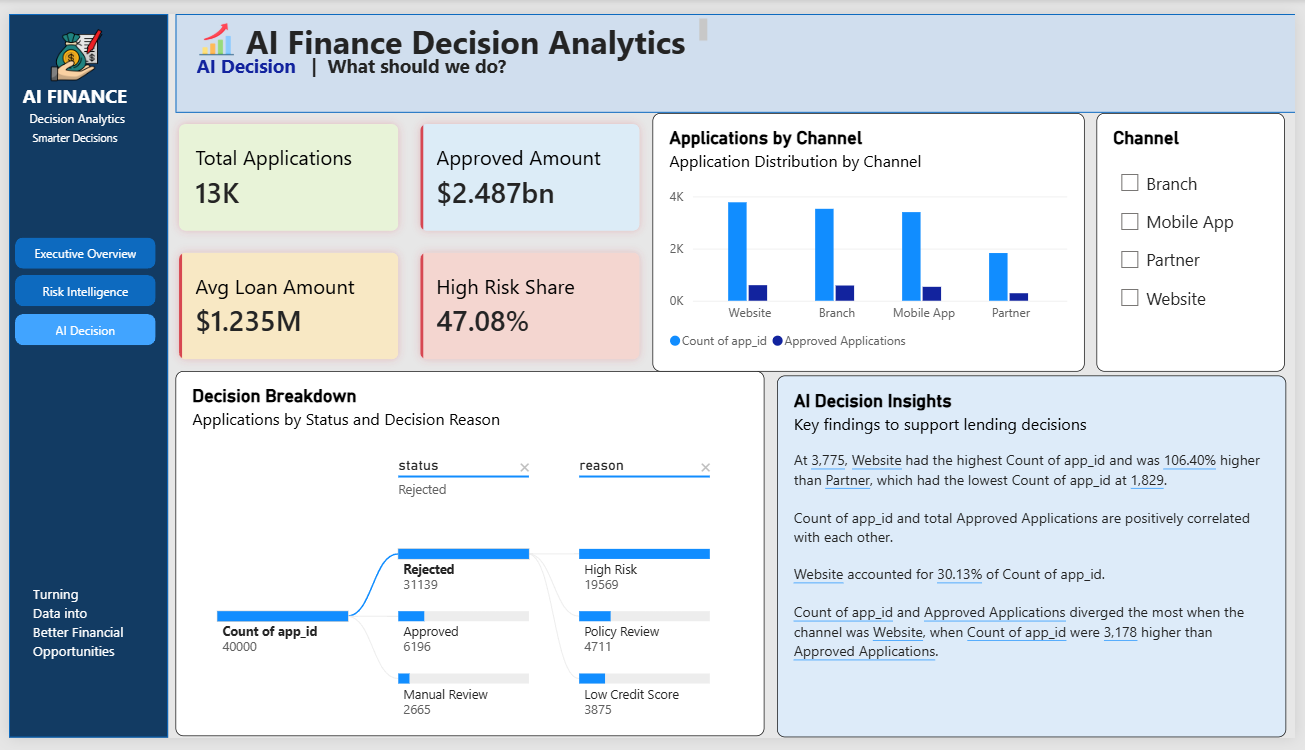

The page's visual inventory and layout, read from the dashboard file:
{"tool":"powerbi","page":{"name":"AI Decision","canvas":[1280,720],"ordinal":2},"visuals":[{"type":"shape","box":[0,0,158.3,720],"z":0},{"type":"shape","box":[165,0,1115,98.3],"z":1000},{"type":"cardVisual","fields":{"Data":["loan.Total Applications","decision.Approved Amount","loan.Avg Loan Amount","risk.High Risk Share"]},"box":[158.7,98.4,481,257.1],"z":2000},{"type":"textbox","box":[13.3,68.1,124.1,68.5],"z":3000},{"type":"textbox","box":[23.3,566.7,120,110],"z":4000},{"type":"image","box":[23.2,14.6,86.3,52.2],"z":5000},{"type":"actionButton","title":"Executive Overview","box":[5.7,298.6,140,31],"z":6000},{"type":"actionButton","title":"Executive Overview","box":[5.7,260,140,31],"z":7000},{"type":"textbox","box":[226.6,3.9,468.2,41.8],"z":8000,"group":"g2"},{"type":"actionButton","title":"Executive Overview","box":[5.3,222.4,140,31],"z":8000},{"type":"group","id":"g1","title":"Group 2","box":[186.8,3.9,507.9,64.5],"z":9000},{"type":"textbox","box":[186.8,38.1,468.2,29.1],"z":9000,"group":"g2"},{"type":"image","box":[186.8,6.5,40,35],"z":11000,"group":"g1"},{"type":"clusteredColumnChart","title":"Applications by Channel","fields":{"Category":["loan.channel"],"Y":["CountNonNull(loan.app_id)","decision.Approved Applications"]},"box":[639.7,98.4,430.2,257.1],"z":12000},{"type":"group","id":"g2","title":"Group 1","box":[186.8,3.9,507.9,64.5],"z":12500,"group":"g1"},{"type":"textbox","title":"AI Decision Insights","box":[763.5,360.3,506.3,360.3],"z":13000},{"type":"slicer","title":"Channel ","fields":{"Values":["loan.channel"]},"box":[1082.5,98.4,187.3,257.1],"z":13002},{"type":"decompositionTreeVisual","title":"Decision Breakdown","fields":{"Analyze":["CountNonNull(decision.app_id)"],"ExplainBy":["decision.status","decision.reason"]},"box":[165.1,355.6,585.7,363.5],"z":13003}]}

Visuals, with their boxes in screenshot pixels (x1, y1, x2, y2), scaled from the page's 1280x720 canvas onto the 1305x750 screenshot:
shape: x1=0 y1=0 x2=161 y2=749
shape: x1=168 y1=0 x2=1304 y2=102
cardVisual - loan.Total Applications x decision.Approved Amount: x1=162 y1=103 x2=652 y2=370
textbox: x1=14 y1=71 x2=140 y2=142
textbox: x1=24 y1=590 x2=146 y2=705
image: x1=24 y1=15 x2=112 y2=70
"Executive Overview" actionButton: x1=6 y1=311 x2=149 y2=343
"Executive Overview" actionButton: x1=6 y1=271 x2=149 y2=303
textbox: x1=231 y1=4 x2=708 y2=48
"Executive Overview" actionButton: x1=5 y1=232 x2=148 y2=264
"Group 2" group: x1=190 y1=4 x2=708 y2=71
textbox: x1=190 y1=40 x2=668 y2=70
image: x1=190 y1=7 x2=231 y2=43
"Applications by Channel" clusteredColumnChart: x1=652 y1=103 x2=1091 y2=370
"Group 1" group: x1=190 y1=4 x2=708 y2=71
"AI Decision Insights" textbox: x1=778 y1=375 x2=1295 y2=749
"Channel " slicer: x1=1104 y1=103 x2=1295 y2=370
"Decision Breakdown" decompositionTreeVisual: x1=168 y1=370 x2=765 y2=749
